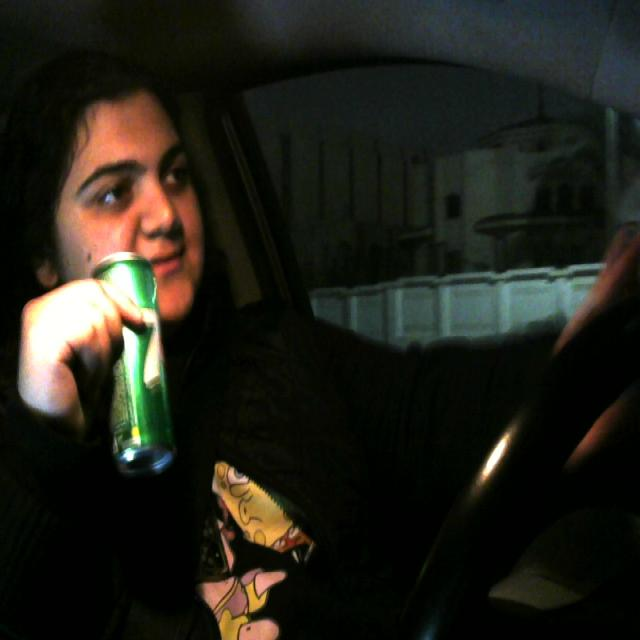drinking: (86, 249, 188, 496)
